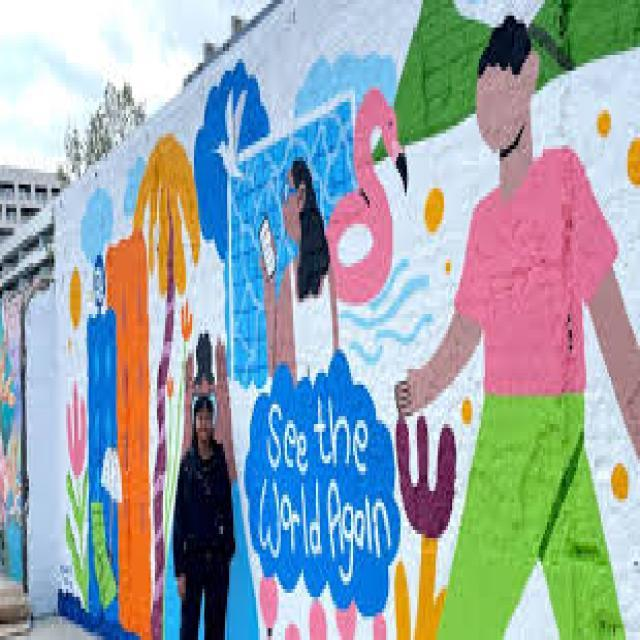-: (60, 1, 639, 640), (0, 314, 22, 580)
